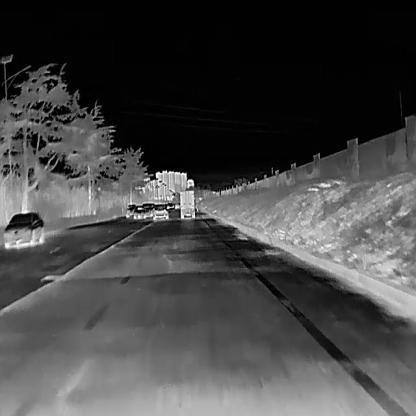car: (2, 210, 43, 247), (152, 203, 168, 219), (132, 205, 146, 219), (141, 201, 153, 217), (125, 203, 136, 217)
truck: (178, 189, 196, 218)
